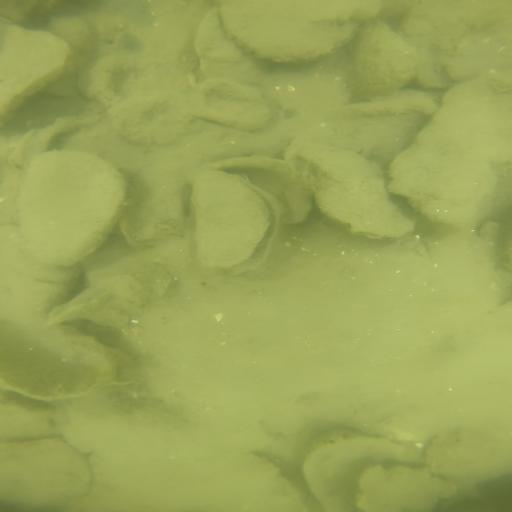Oyster-Closed: (391, 74, 505, 223), (286, 142, 414, 239), (21, 150, 127, 267), (1, 317, 123, 404), (219, 2, 382, 63), (306, 435, 405, 512), (1, 438, 92, 507), (2, 28, 68, 122), (80, 51, 182, 107), (402, 2, 512, 53), (193, 10, 263, 87), (185, 77, 276, 131), (426, 429, 512, 484), (353, 23, 417, 96), (112, 95, 193, 142), (361, 464, 440, 511), (244, 463, 303, 510), (1, 406, 55, 441)
Oyster-Open: (197, 173, 281, 277)
